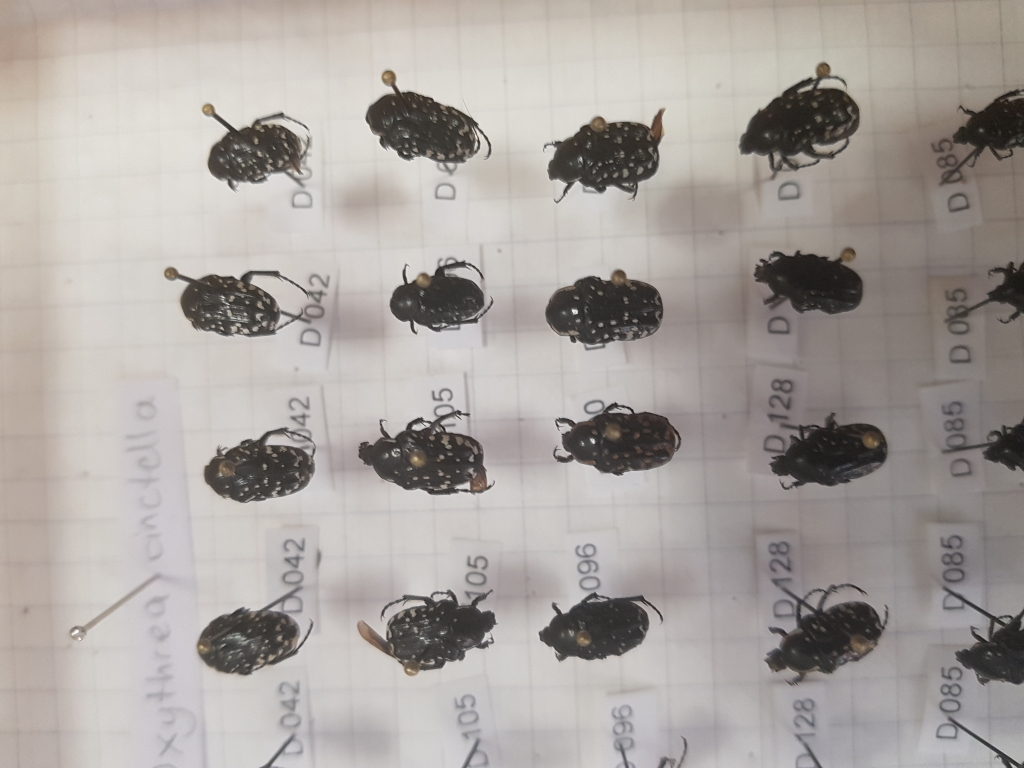Oxythyrea_cinctella: (356, 579, 506, 683), (351, 407, 492, 503), (532, 115, 672, 204), (176, 263, 311, 345), (195, 421, 319, 510), (545, 268, 667, 354)
